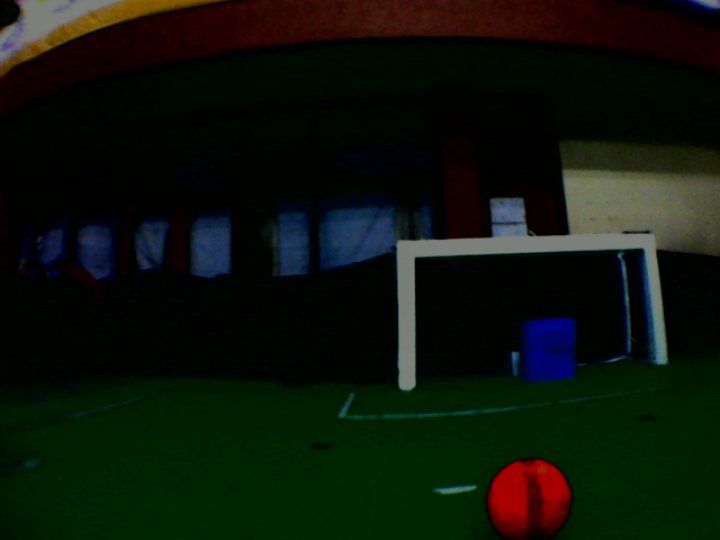bola: (478, 454, 581, 540)
